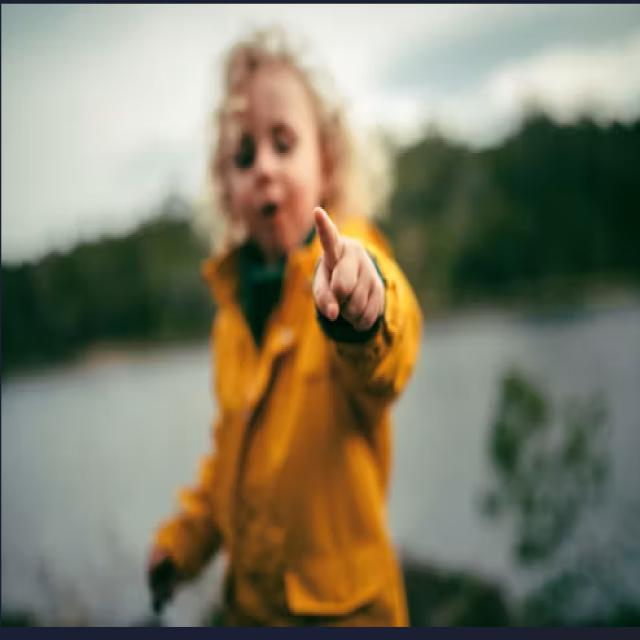Edited images: (141, 35, 429, 635)
